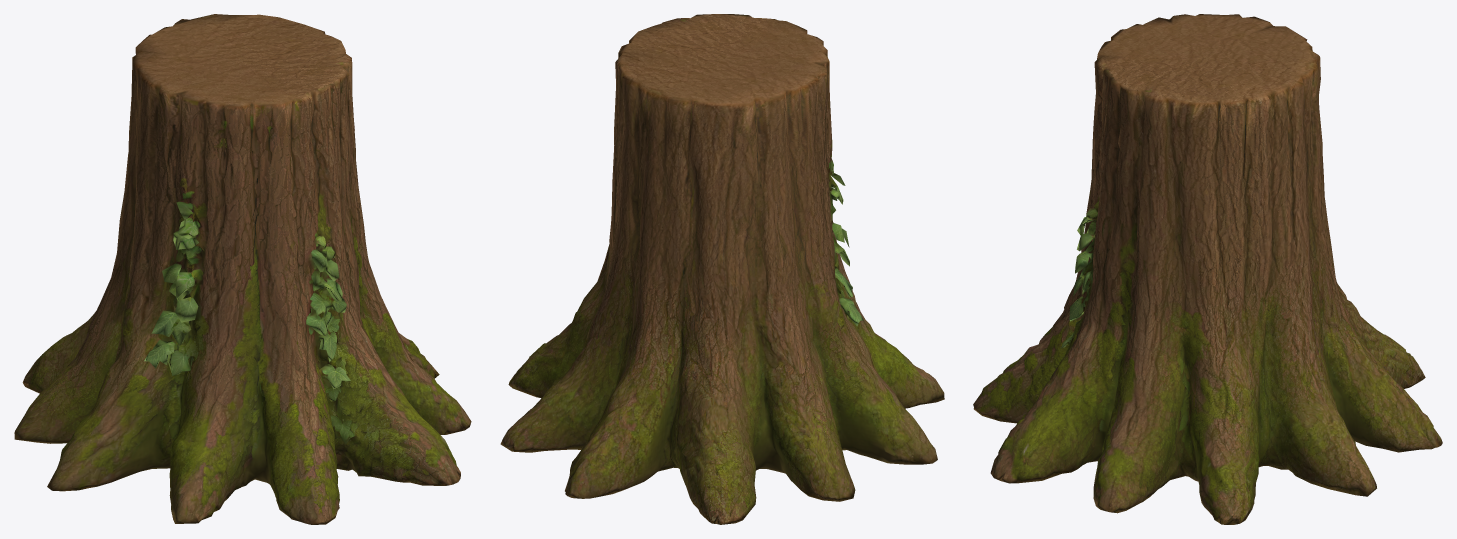
The model's file is source_2.glb.
3 renders of one model, left to right at view 1: azimuth 30°, elevation 25°; view 2: azimuth 150°, elevation 25°; view 3: azimuth 270°, elevation 25°, orthographic. The views are drawn at different scales.
Visible parts, largest first — view 1: tripo_node_1e529253-480f-47b3-8fc7-ed3f576efc97; view 2: tripo_node_1e529253-480f-47b3-8fc7-ed3f576efc97; view 3: tripo_node_1e529253-480f-47b3-8fc7-ed3f576efc97.
Boxes of the visible parts, x1,y1,x2,y2 form: tripo_node_1e529253-480f-47b3-8fc7-ed3f576efc97: (14,14,471,524); tripo_node_1e529253-480f-47b3-8fc7-ed3f576efc97: (500,14,944,524); tripo_node_1e529253-480f-47b3-8fc7-ed3f576efc97: (973,14,1442,524).
Bounding box in the file's own units: 0.9792 × 0.8481 × 0.9801.
1 material, 1 textured.
